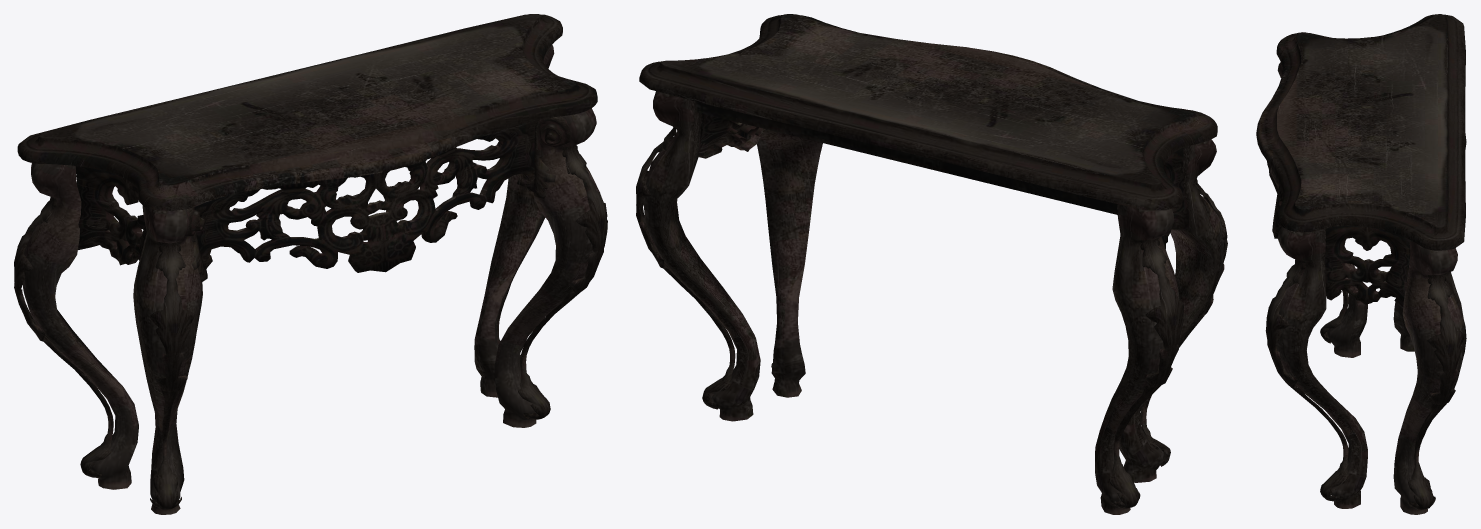
File: ph_classicconsole_01.glb
3 views of the same model, side by side, from view 1: azimuth 30°, elevation 25°; view 2: azimuth 150°, elevation 25°; view 3: azimuth 270°, elevation 25° (orthographic). The views are drawn at different scales.
Parts seen in each view (by area): view 1: ph_classicconsole_01; view 2: ph_classicconsole_01; view 3: ph_classicconsole_01.
Boxes of the visible parts, box(x1,y1,x2,y2) form: ph_classicconsole_01: box(14, 14, 607, 514); ph_classicconsole_01: box(636, 14, 1227, 514); ph_classicconsole_01: box(1256, 14, 1466, 514).
Bounding box in the file's own units: 1.54 × 0.9491 × 0.5893.
Materials: 1 (1 with a texture image).
